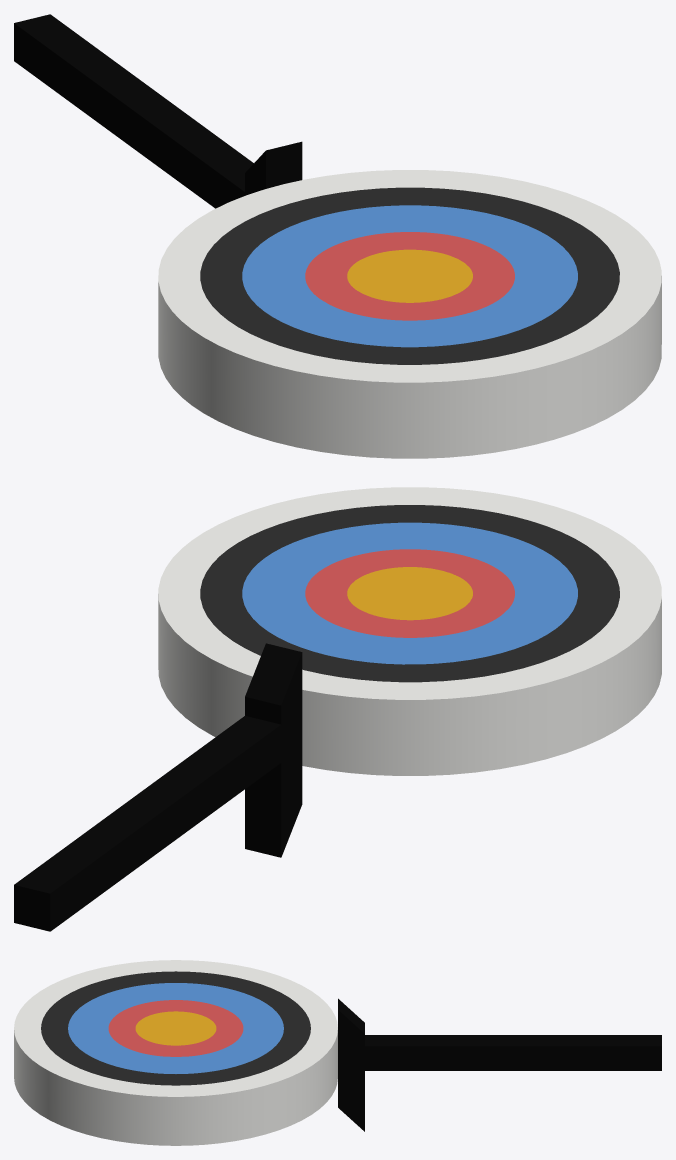
Rendered from Target ArcherPro.fbx.
The picture shows the model from 3 angles, top to bottom: view 1: azimuth 30°, elevation 25°; view 2: azimuth 150°, elevation 25°; view 3: azimuth 270°, elevation 25°; orthographic projection. The views are drawn at different scales.
Parts seen in each view (by area): view 1: Body2, Body4, Body3, Body6, Body1, Body5, Body7; view 2: Body2, Body4, Body3, Body6, Body1, Body7, Body5; view 3: Body2, Body6, Body4, Body3, Body1, Body7, Body5.
Part boxes in pixels (x1,y1,x2,y2): Body2: (158,170,661,458); Body4: (242,205,577,347); Body3: (200,187,619,364); Body6: (14,14,253,208); Body1: (305,232,514,320); Body5: (347,249,472,302); Body7: (245,141,302,195); Body2: (158,487,661,775); Body4: (242,522,577,664); Body3: (200,505,619,682); Body6: (14,716,281,931); Body1: (305,549,514,637); Body7: (245,643,302,857); Body5: (347,567,472,620); Body2: (14,960,337,1145); Body6: (365,1035,661,1070); Body4: (68,983,283,1073); Body3: (41,971,310,1085); Body1: (108,1000,243,1056); Body7: (338,998,364,1131); Body5: (135,1011,216,1045).
Bounding box in the file's own units: 12 × 5 × 24.
